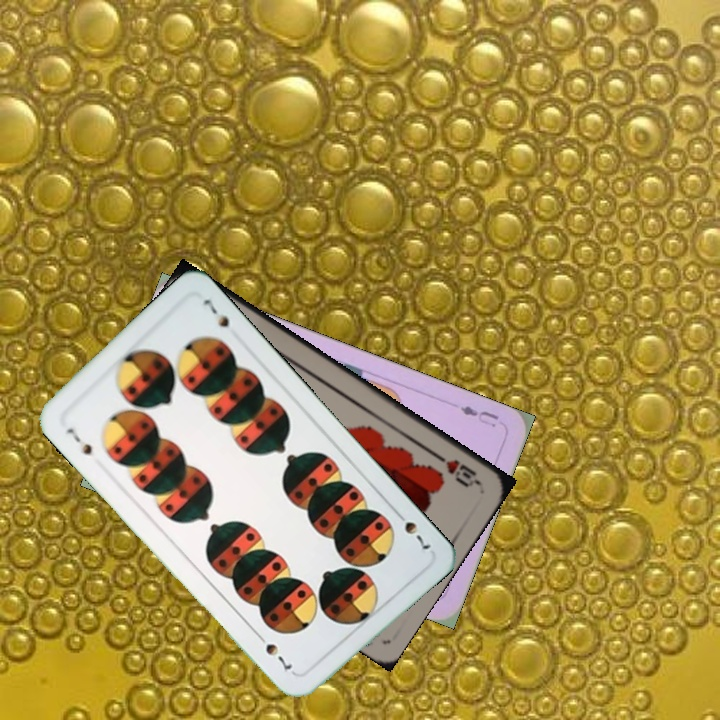EU: (456, 401, 501, 430)
H10: (430, 449, 483, 490)
S7: (390, 506, 434, 553), (62, 423, 95, 458)
